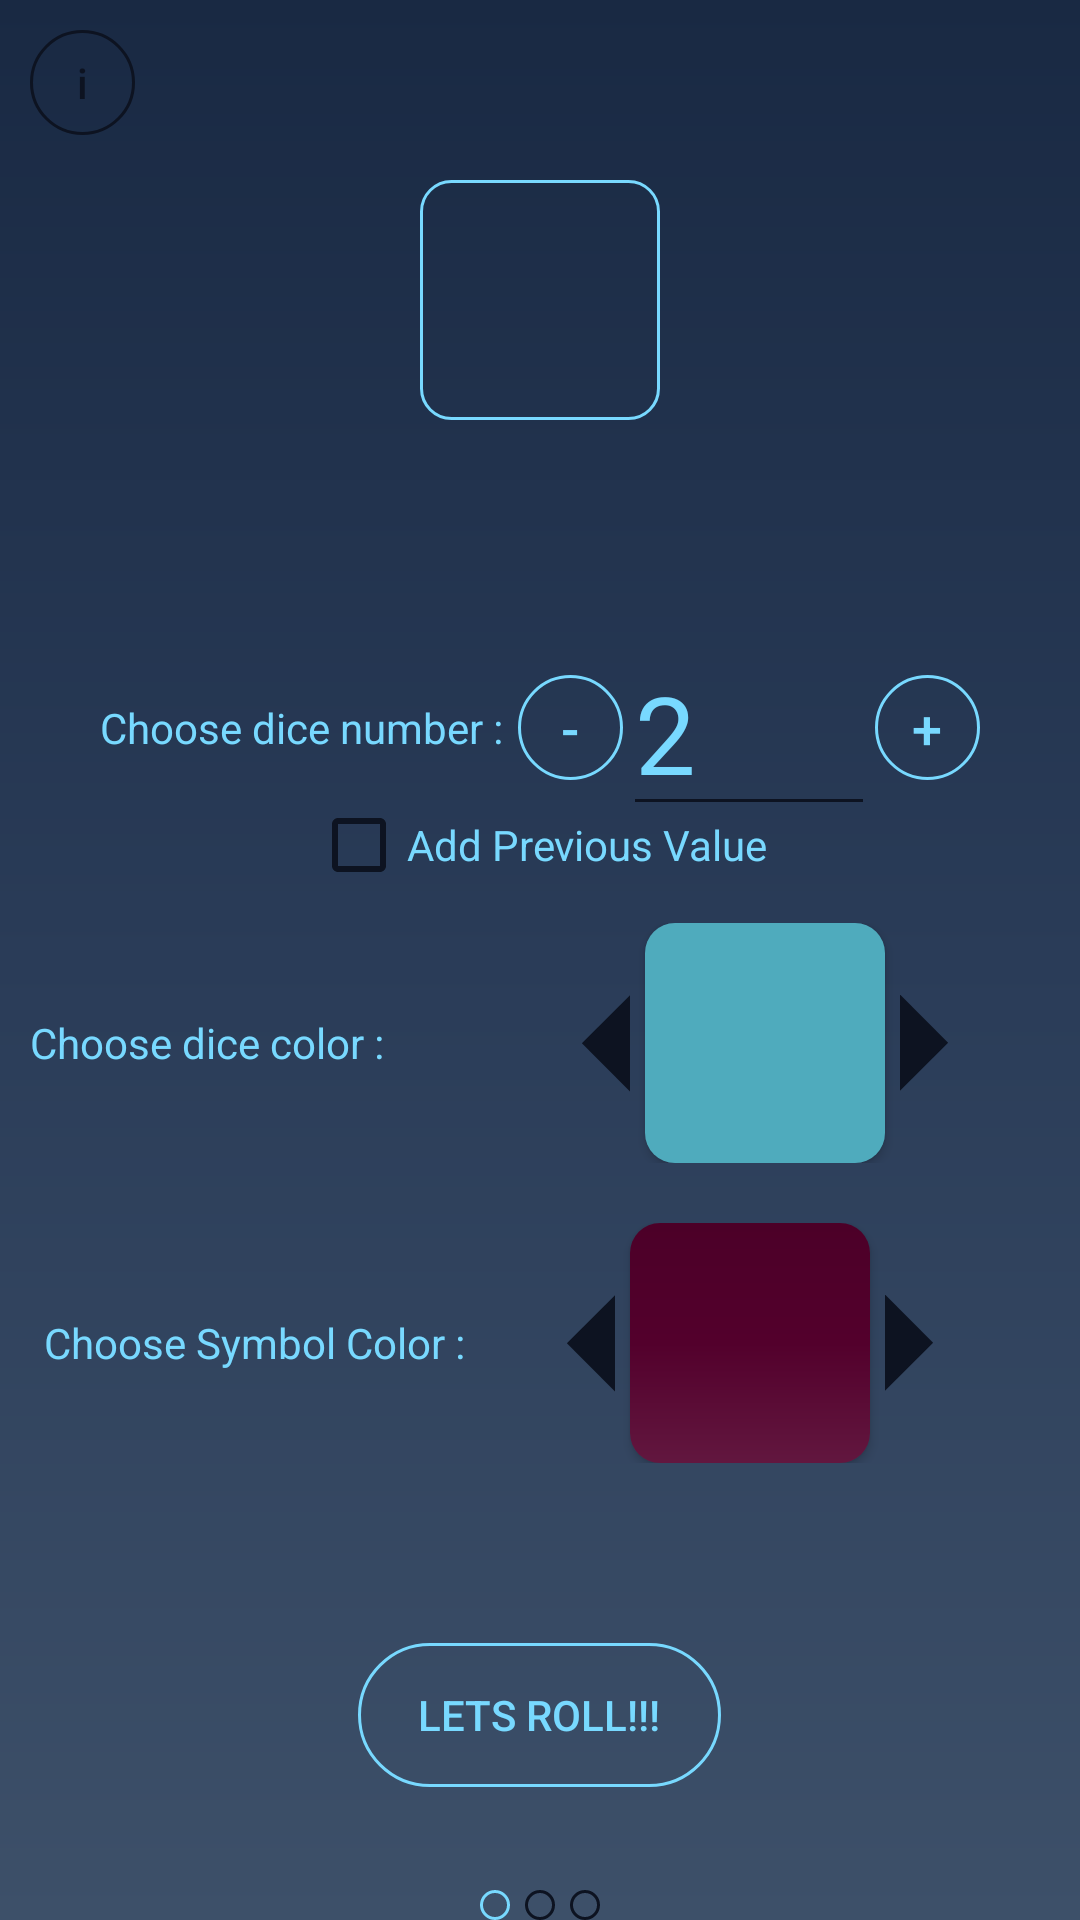

Named icons in this screenshot (1080 x 1920) and their bounding boxes, (x1, y1, x2, y2):
fut circle open: (480, 1890, 510, 1920)
triangle left: (582, 996, 630, 1091), (567, 1296, 615, 1391)
triangle right: (900, 995, 948, 1090), (885, 1295, 933, 1390)
